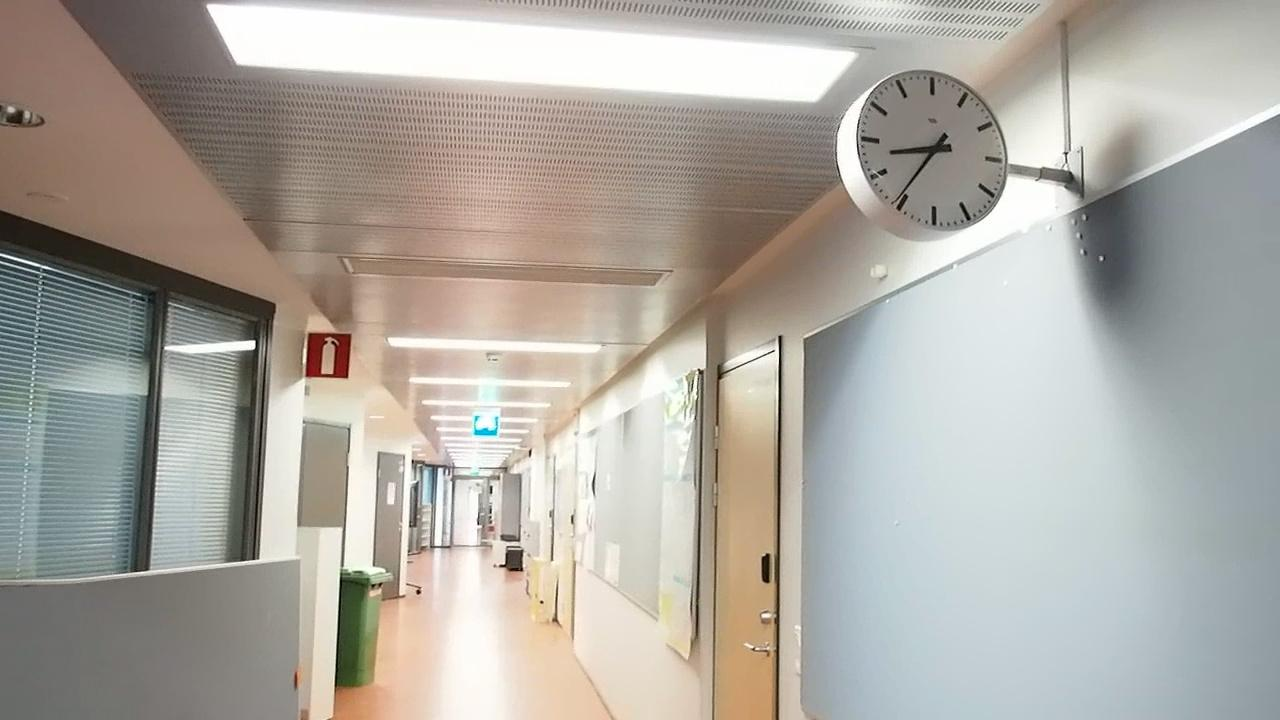clock: (832, 58, 1022, 238)
trashbin: (332, 559, 401, 691)
